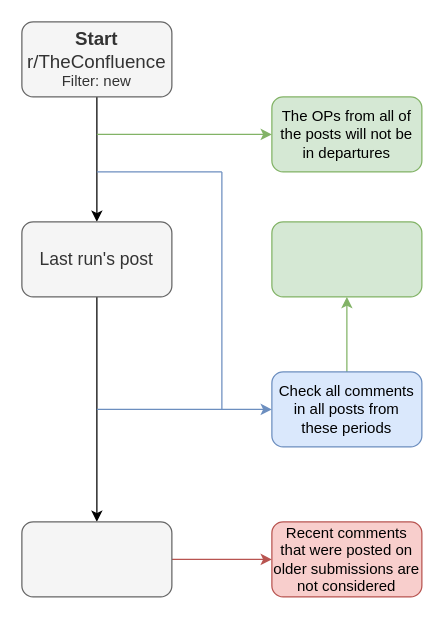
Image size: 444x619. Some labels were removed from this diagram. The shapes that lost their labels are listed below. From the top down, each one's centre as x and y in pixels, then its label:
At pixel 346 259: "The authors of comments made after last run started will not be in departures".
At pixel 96 559: "3 weeks ago".
